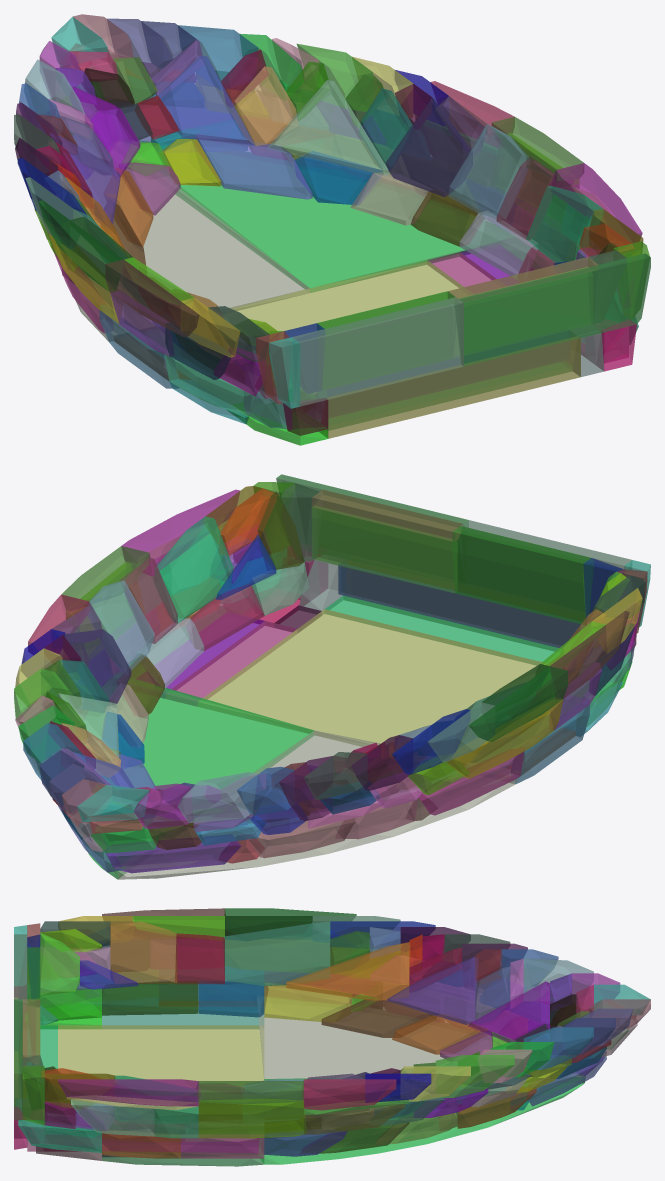
3 renders of one model, top to bottom at view 1: azimuth 30°, elevation 25°; view 2: azimuth 150°, elevation 25°; view 3: azimuth 270°, elevation 25°, orthographic. The views are drawn at different scales.
Parts seen in each view (by area): view 1: Shape_IndexedFaceSet.001, Shape_IndexedFaceSet, Shape_IndexedFaceSet.003, Shape_IndexedFaceSet.017, Shape_IndexedFaceSet.006, Shape_IndexedFaceSet.015, Shape_IndexedFaceSet.002, Shape_IndexedFaceSet.057, Shape_IndexedFaceSet.070, Shape_IndexedFaceSet.018, Shape_IndexedFaceSet.050, Shape_IndexedFaceSet.049 (+111 smaller); view 2: Shape_IndexedFaceSet.002, Shape_IndexedFaceSet.001, Shape_IndexedFaceSet, Shape_IndexedFaceSet.003, Shape_IndexedFaceSet.015, Shape_IndexedFaceSet.017, Shape_IndexedFaceSet.006, Shape_IndexedFaceSet.057, Shape_IndexedFaceSet.070, Shape_IndexedFaceSet.056, Shape_IndexedFaceSet.035, Shape_IndexedFaceSet.095 (+102 smaller); view 3: Shape_IndexedFaceSet, Shape_IndexedFaceSet.002, Shape_IndexedFaceSet.001, Shape_IndexedFaceSet.042, Shape_IndexedFaceSet.011, Shape_IndexedFaceSet.054, Shape_IndexedFaceSet.086, Shape_IndexedFaceSet.012, Shape_IndexedFaceSet.033, Shape_IndexedFaceSet.041, Shape_IndexedFaceSet.095, Shape_IndexedFaceSet.067 (+121 smaller).
Boxes of the visible parts, box(x1,y1,x2,y2) form: Shape_IndexedFaceSet.001: box(126, 141, 510, 292); Shape_IndexedFaceSet: box(67, 149, 309, 341); Shape_IndexedFaceSet.003: box(454, 253, 650, 366); Shape_IndexedFaceSet.017: box(289, 297, 463, 406); Shape_IndexedFaceSet.006: box(320, 336, 580, 438); Shape_IndexedFaceSet.015: box(317, 291, 455, 389); Shape_IndexedFaceSet.002: box(223, 260, 472, 394); Shape_IndexedFaceSet.057: box(454, 267, 591, 355); Shape_IndexedFaceSet.070: box(327, 331, 569, 417); Shape_IndexedFaceSet.018: box(267, 80, 389, 175); Shape_IndexedFaceSet.050: box(385, 98, 472, 197); Shape_IndexedFaceSet.049: box(158, 56, 255, 146); Shape_IndexedFaceSet.002: box(198, 609, 545, 746); Shape_IndexedFaceSet.001: box(81, 674, 314, 879); Shape_IndexedFaceSet: box(115, 730, 517, 879); Shape_IndexedFaceSet.003: box(276, 474, 468, 582); Shape_IndexedFaceSet.015: box(452, 526, 593, 624); Shape_IndexedFaceSet.017: box(459, 520, 631, 612); Shape_IndexedFaceSet.006: box(344, 561, 599, 650); Shape_IndexedFaceSet.057: box(312, 506, 457, 593); Shape_IndexedFaceSet.070: box(338, 563, 581, 647); Shape_IndexedFaceSet.056: box(154, 516, 233, 623); Shape_IndexedFaceSet.035: box(325, 595, 561, 664); Shape_IndexedFaceSet.095: box(121, 489, 239, 575); Shape_IndexedFaceSet: box(257, 997, 584, 1082); Shape_IndexedFaceSet.002: box(58, 1025, 264, 1087); Shape_IndexedFaceSet.001: box(258, 1076, 585, 1164); Shape_IndexedFaceSet.042: box(223, 921, 330, 985); Shape_IndexedFaceSet.011: box(286, 942, 410, 1000); Shape_IndexedFaceSet.054: box(198, 1099, 306, 1138); Shape_IndexedFaceSet.086: box(109, 921, 177, 983); Shape_IndexedFaceSet.012: box(387, 956, 478, 1024); Shape_IndexedFaceSet.033: box(102, 1007, 263, 1028); Shape_IndexedFaceSet.041: box(225, 939, 356, 972); Shape_IndexedFaceSet.095: box(58, 1079, 201, 1106); Shape_IndexedFaceSet.067: box(102, 981, 198, 1015).
Bounding box in the file's own units: 0.565 × 0.1199 × 0.8276.
